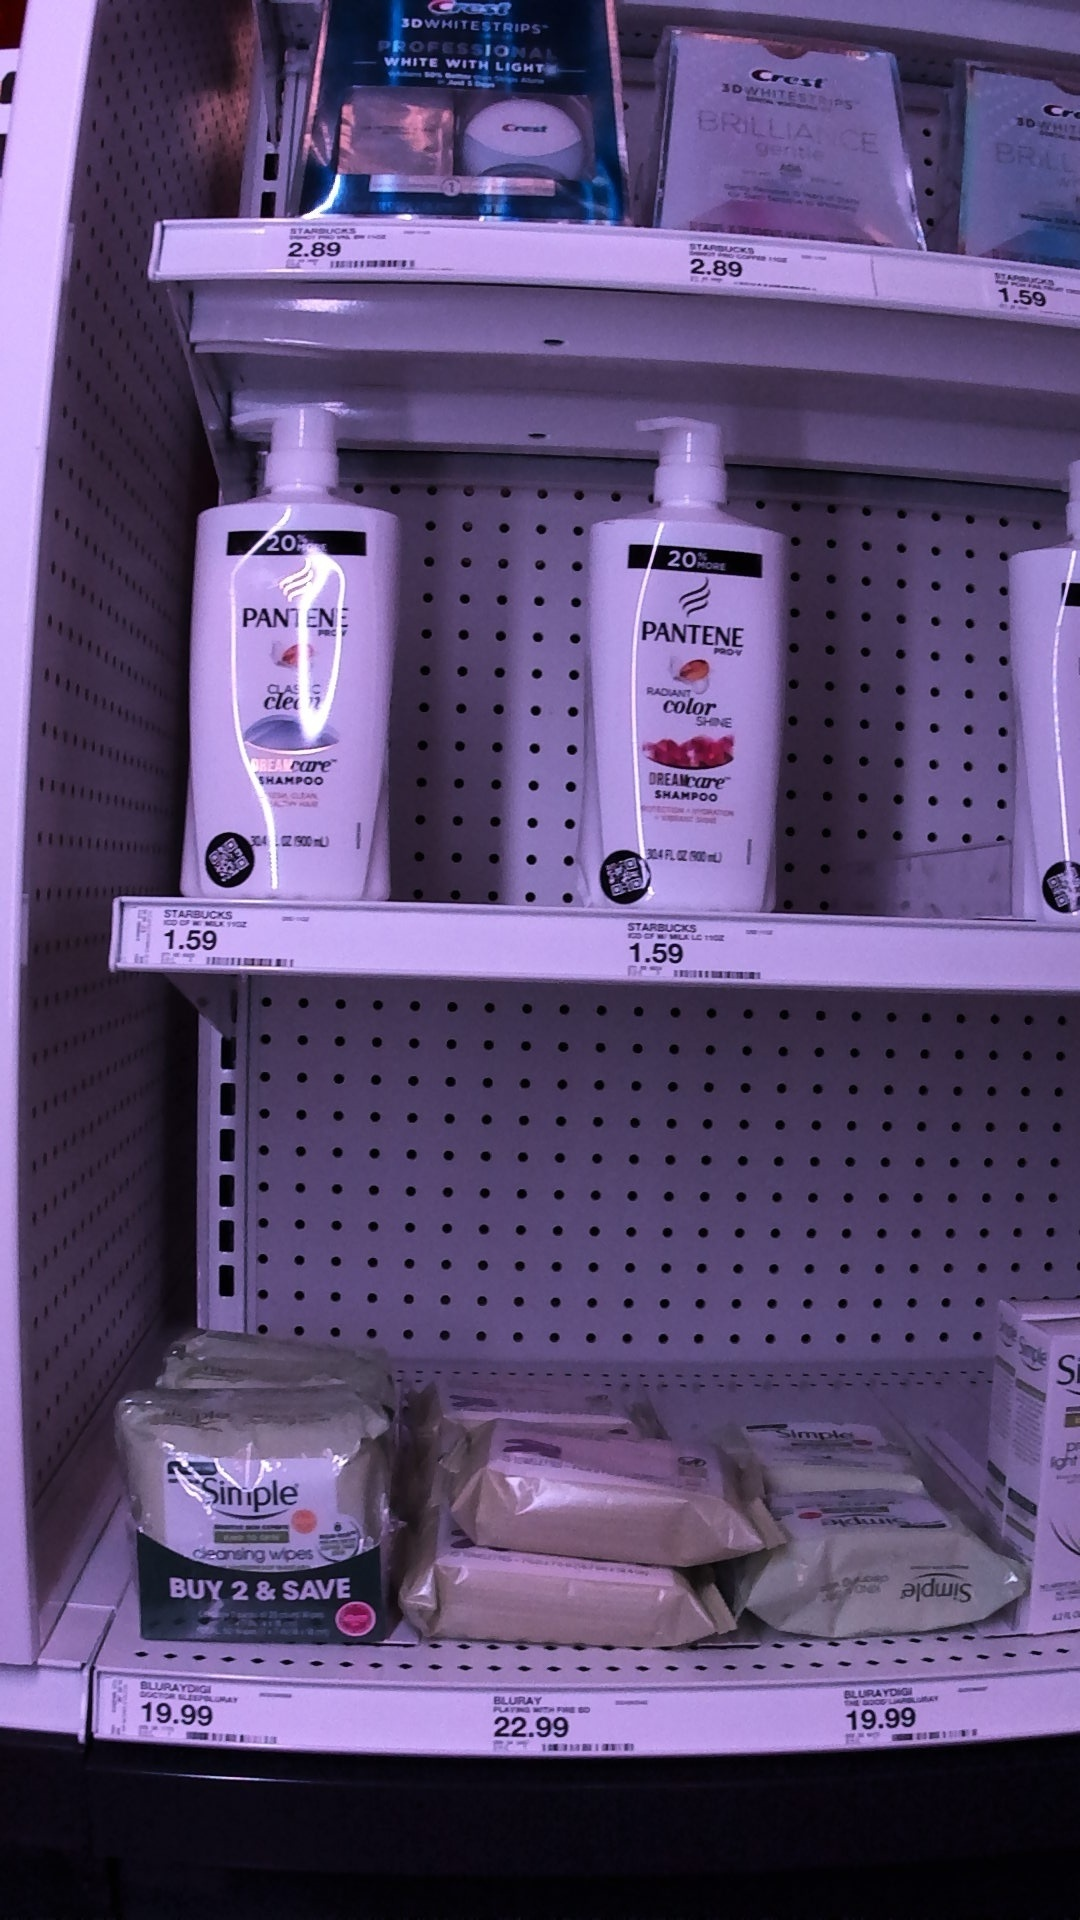ptag: (94, 1655, 311, 1751), (120, 893, 320, 982), (678, 225, 886, 309), (835, 1665, 1002, 1755), (615, 906, 789, 992), (484, 1677, 655, 1762), (280, 211, 464, 282), (975, 247, 1080, 331)
